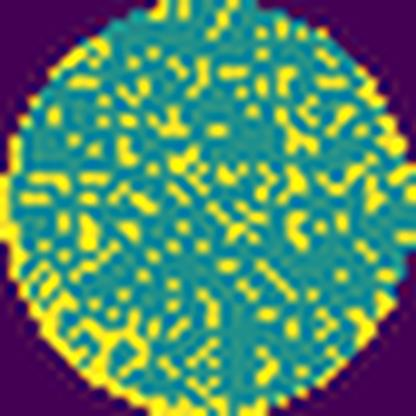Edge-Loc: (0, 135, 221, 415)
